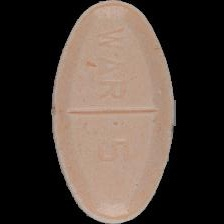54868-4286: (0, 0, 224, 224)
